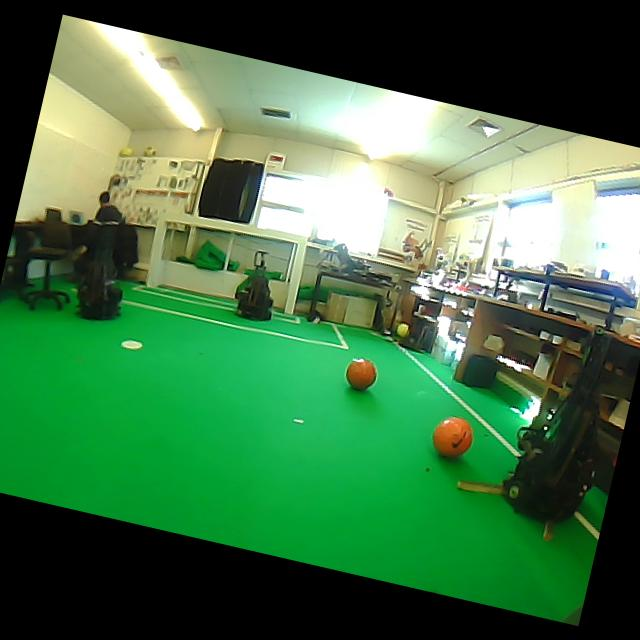ball: (432, 416, 472, 457), (345, 357, 376, 389), (396, 322, 408, 337), (118, 146, 133, 157), (143, 146, 154, 156)
goal: (283, 236, 306, 313), (145, 218, 167, 286)
robot: (503, 332, 611, 521), (78, 224, 123, 319), (235, 250, 271, 320)
